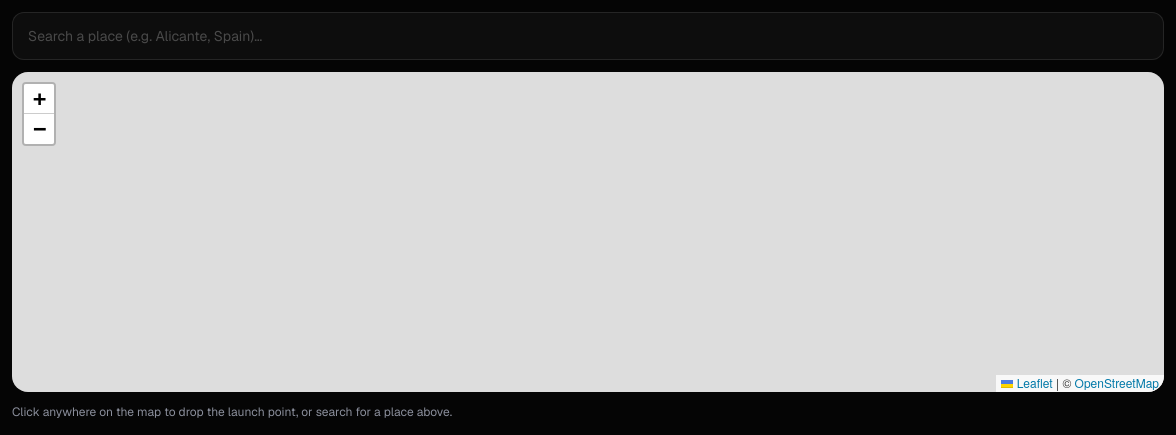
Test case: SitePicker — results list a11y (Web Interface Guidelines) › labels the search input and announces the result count
Type "Alicante" into the search field named "Search launch site" at (588, 36), box [12,12,1164,60]
Wait 400 ms
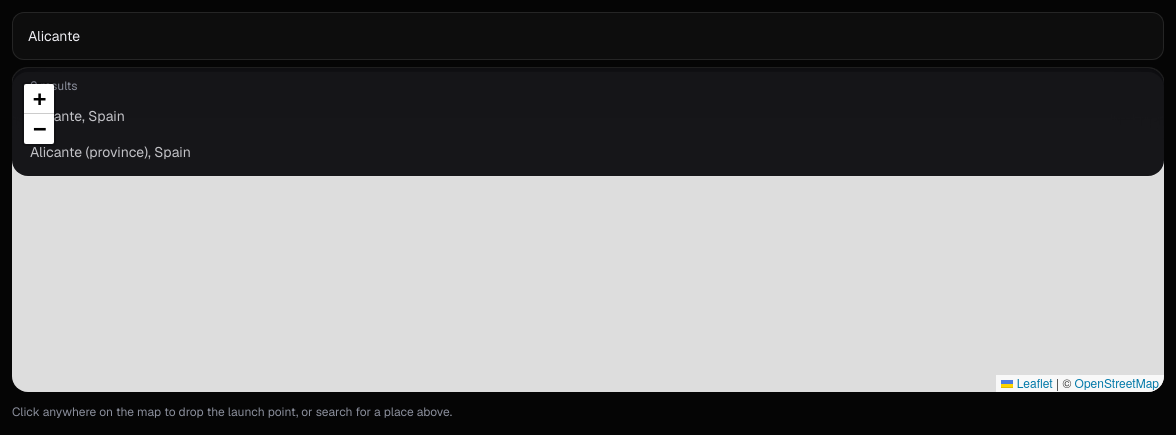
Check: the text "2 results" is shown, box [30,78,78,94]
